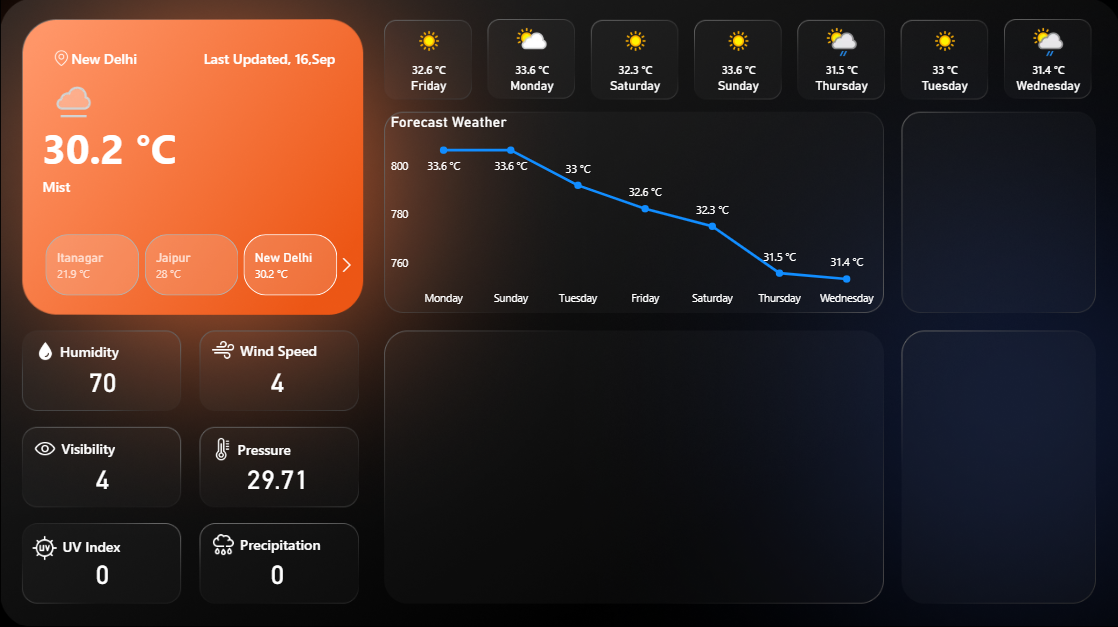

Layout of this report page (visuals, bound fields, positions):
{"tool":"powerbi","page":{"name":"Page 1","canvas":[1280,720],"ordinal":0},"visuals":[{"type":"advancedSlicerVisual","fields":{"Values":["Locations.location.name"]},"box":[27.4,263.5,384.2,81],"z":0},{"type":"shape","box":[48,124.9,227.8,87.8],"z":1000},{"type":"shape","box":[48,196.2,127.6,34.3],"z":2000},{"type":"shape","box":[233.3,48,155.1,34.3],"z":3000},{"type":"shape","box":[80.9,48,90.6,34.3],"z":4000,"group":"g1"},{"type":"group","id":"g1","title":"Group 1","box":[48,48,123.5,34.3],"z":4000},{"type":"cardVisual","fields":{"Data":["Min(Current_data.current.condition.icon)"]},"box":[25,64.8,111.8,100.1],"z":5000},{"type":"image","box":[48,52.1,42.5,27.4],"z":5001,"group":"g1"},{"type":"image","box":[31.6,385.6,41.2,31.6],"z":6000},{"type":"image","box":[31.6,494.5,39.8,37],"z":7000},{"type":"image","box":[31.6,603.8,39.8,43.9],"z":8000},{"type":"image","box":[235.7,381.2,38.4,37],"z":9000},{"type":"image","box":[234.6,495.4,39.8,35.7],"z":10000},{"type":"image","box":[236,602.4,39.8,39.8],"z":11000},{"type":"textbox","box":[481.6,39.8,156.4,42],"z":12000},{"type":"shape","box":[68.6,384.2,155.1,34.3],"z":13000},{"type":"shape","box":[70,493.7,155.1,34.3],"z":14000},{"type":"shape","box":[71.4,606.5,127.6,34.3],"z":15000},{"type":"shape","box":[273.9,382.6,127.6,34.3],"z":16000},{"type":"shape","box":[271.7,495.6,127.6,34.3],"z":17000},{"type":"shape","box":[275,604.3,127.6,34.3],"z":18000},{"type":"card","fields":{"Values":["Sum(Current_data.current.humidity)"]},"box":[32.9,406.2,168.8,59],"z":19000},{"type":"card","fields":{"Values":["Sum(Current_data.current.wind_kph)"]},"box":[233.3,406.2,168.8,59],"z":20000},{"type":"card","fields":{"Values":["Sum(Current_data.current.vis_km)"]},"box":[32.9,517.3,168.8,59],"z":21000},{"type":"card","fields":{"Values":["Sum(Current_data.current.pressure_in)"]},"box":[233.3,517.3,168.8,59],"z":22000},{"type":"card","fields":{"Values":["Sum(Current_data.current.uv)"]},"box":[32.9,625.7,168.8,59],"z":23000},{"type":"card","fields":{"Values":["Sum(Current_data.current.precip_in)"]},"box":[233.3,625.7,168.8,59],"z":24000},{"type":"advancedSlicerVisual","fields":{"Values":["Forecast_data.Day_Name"]},"box":[429.5,20.6,834.3,104.3],"z":25000},{"type":"lineChart","title":"Forecast Weather","fields":{"Category":["Forecast_data.Day_Name"],"Y":["Sum(Forecast_data.forecast.forecastday.day.avgtemp_c)"]},"box":[441.9,129,568.1,230.5],"z":26001}]}

Visuals, with their boxes in screenshot pixels (x1, y1, x2, y2), scaled from the page's 1280x720 canvas onto the 1118x627 screenshot:
advancedSlicerVisual - Locations.location.name: (x1=24, y1=229, x2=360, y2=300)
shape: (x1=42, y1=109, x2=241, y2=185)
shape: (x1=42, y1=171, x2=153, y2=201)
shape: (x1=204, y1=42, x2=339, y2=72)
shape: (x1=71, y1=42, x2=150, y2=72)
"Group 1" group: (x1=42, y1=42, x2=150, y2=72)
cardVisual - Min(Current_data.current.condition.icon): (x1=22, y1=56, x2=119, y2=144)
image: (x1=42, y1=45, x2=79, y2=69)
image: (x1=28, y1=336, x2=64, y2=363)
image: (x1=28, y1=431, x2=62, y2=463)
image: (x1=28, y1=526, x2=62, y2=564)
image: (x1=206, y1=332, x2=239, y2=364)
image: (x1=205, y1=431, x2=240, y2=462)
image: (x1=206, y1=525, x2=241, y2=559)
textbox: (x1=421, y1=35, x2=557, y2=71)
shape: (x1=60, y1=335, x2=195, y2=364)
shape: (x1=61, y1=430, x2=197, y2=460)
shape: (x1=62, y1=528, x2=174, y2=558)
shape: (x1=239, y1=333, x2=351, y2=363)
shape: (x1=237, y1=432, x2=349, y2=461)
shape: (x1=240, y1=526, x2=352, y2=556)
card - Sum(Current_data.current.humidity): (x1=29, y1=354, x2=176, y2=405)
card - Sum(Current_data.current.wind_kph): (x1=204, y1=354, x2=351, y2=405)
card - Sum(Current_data.current.vis_km): (x1=29, y1=450, x2=176, y2=502)
card - Sum(Current_data.current.pressure_in): (x1=204, y1=450, x2=351, y2=502)
card - Sum(Current_data.current.uv): (x1=29, y1=545, x2=176, y2=596)
card - Sum(Current_data.current.precip_in): (x1=204, y1=545, x2=351, y2=596)
advancedSlicerVisual - Forecast_data.Day_Name: (x1=375, y1=18, x2=1104, y2=109)
"Forecast Weather" lineChart: (x1=386, y1=112, x2=882, y2=313)
